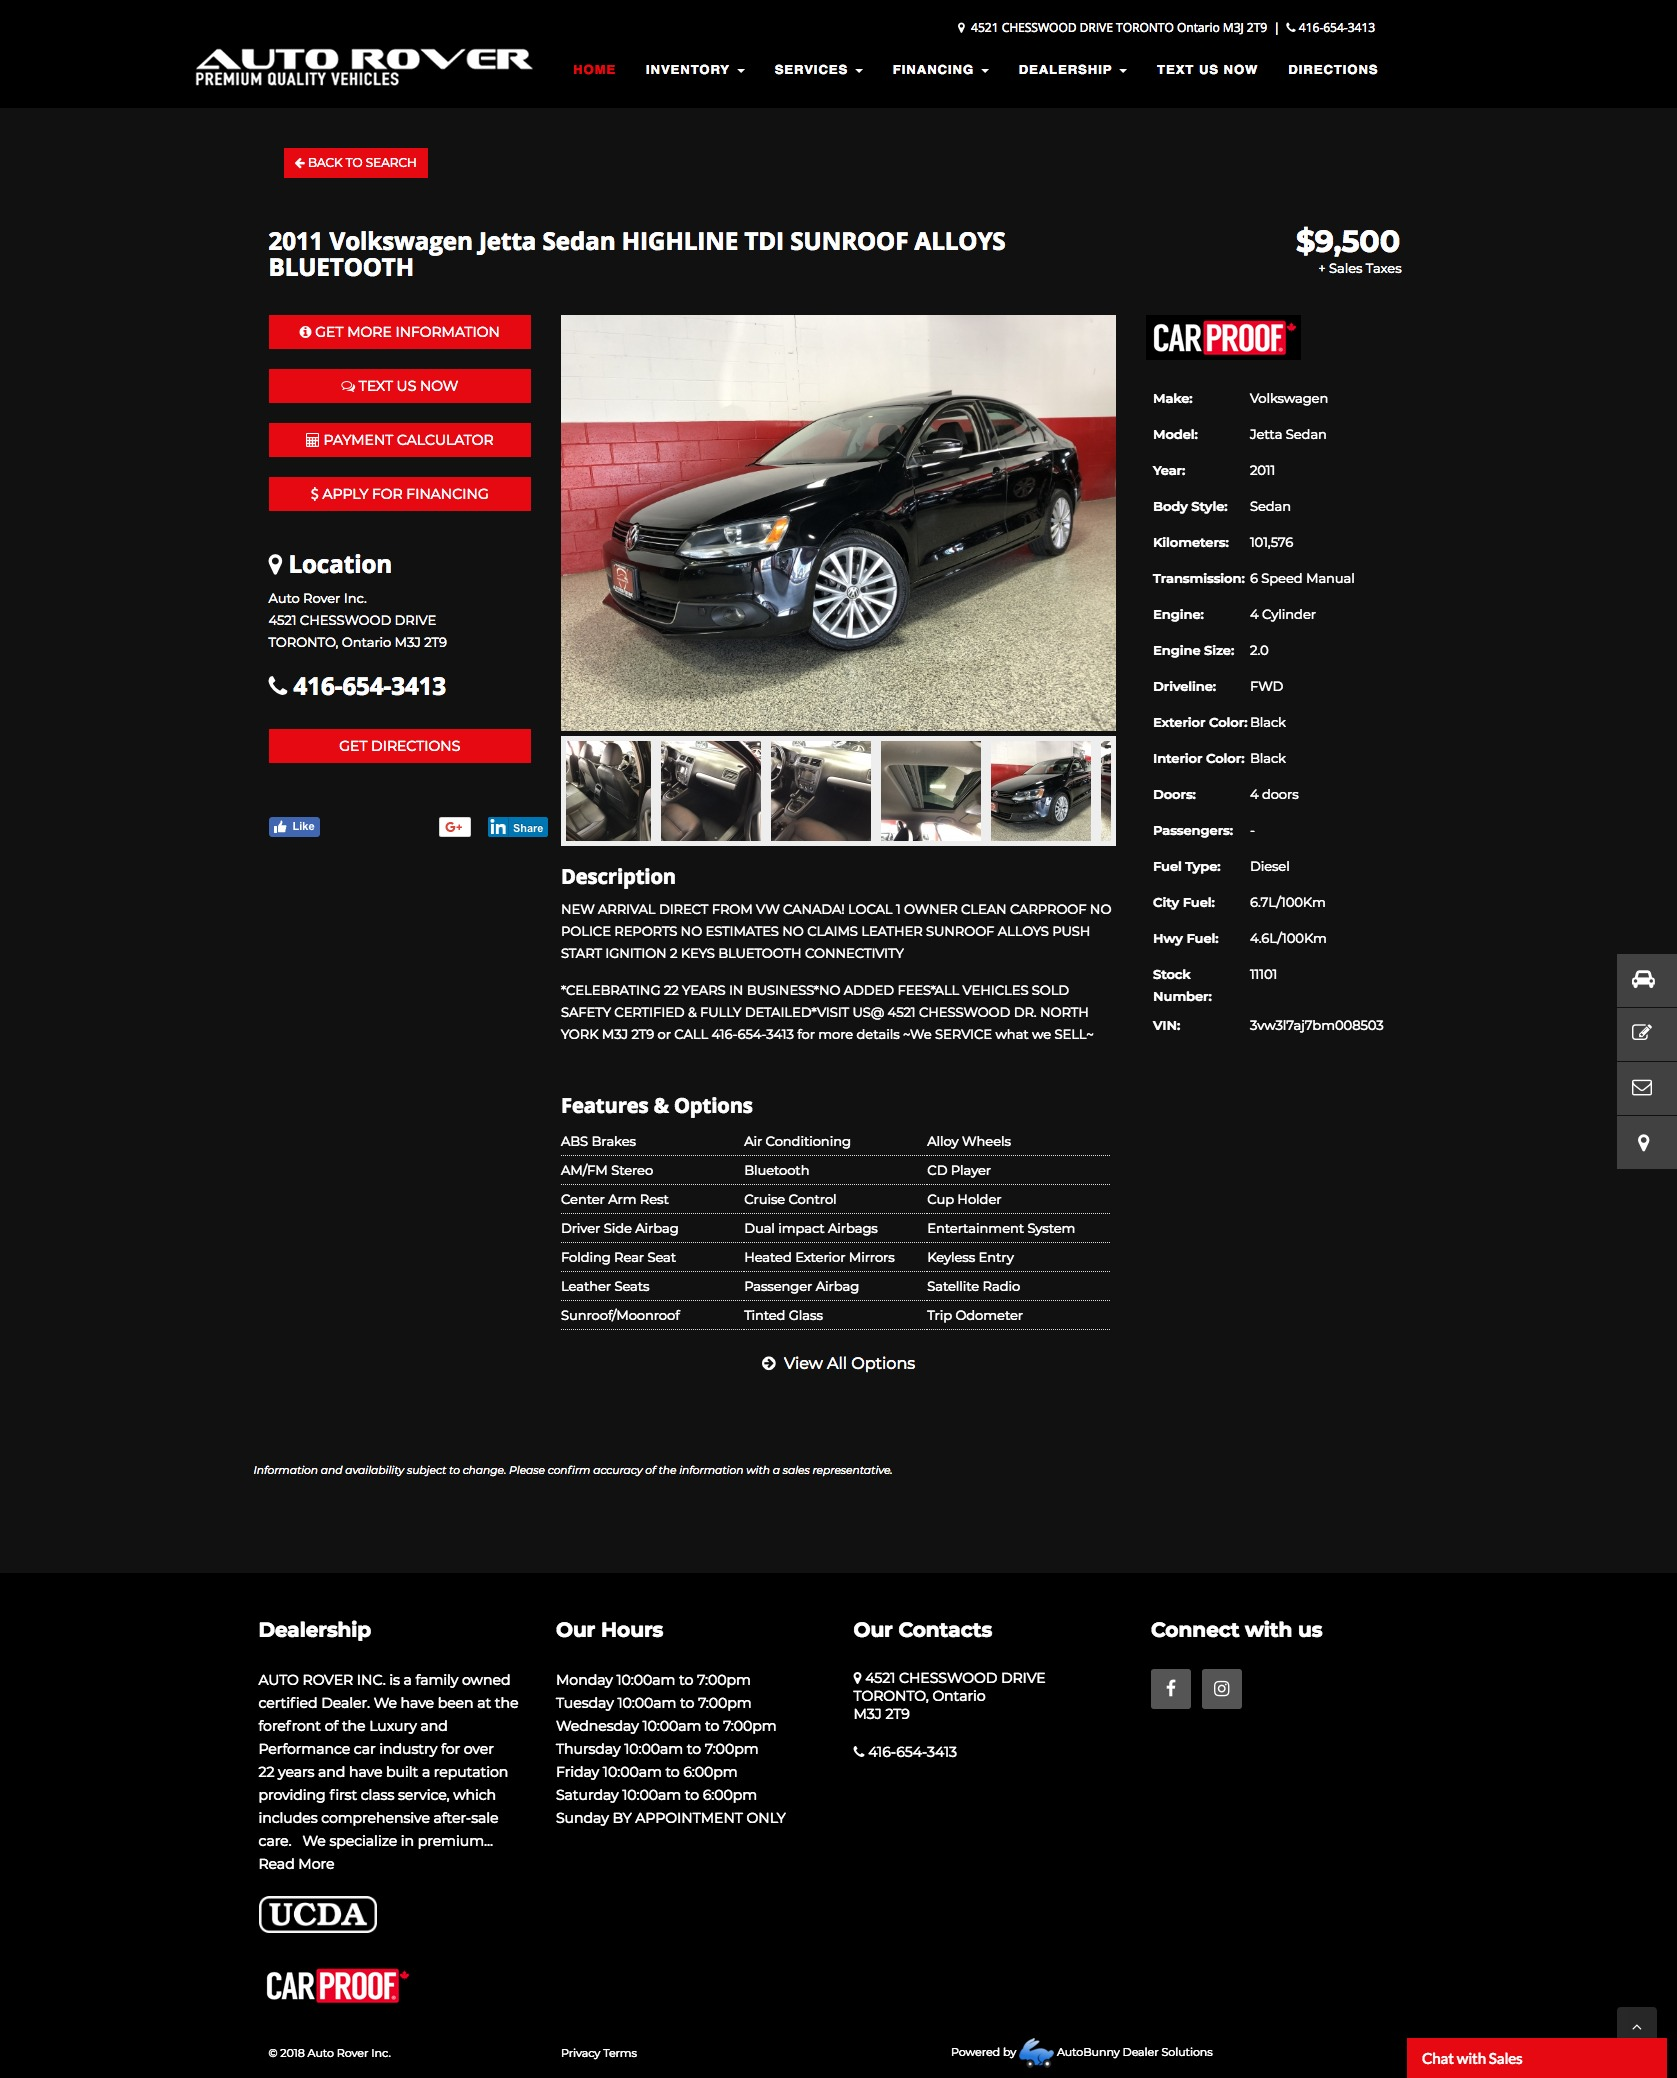car: (1104, 724, 1138, 852)
